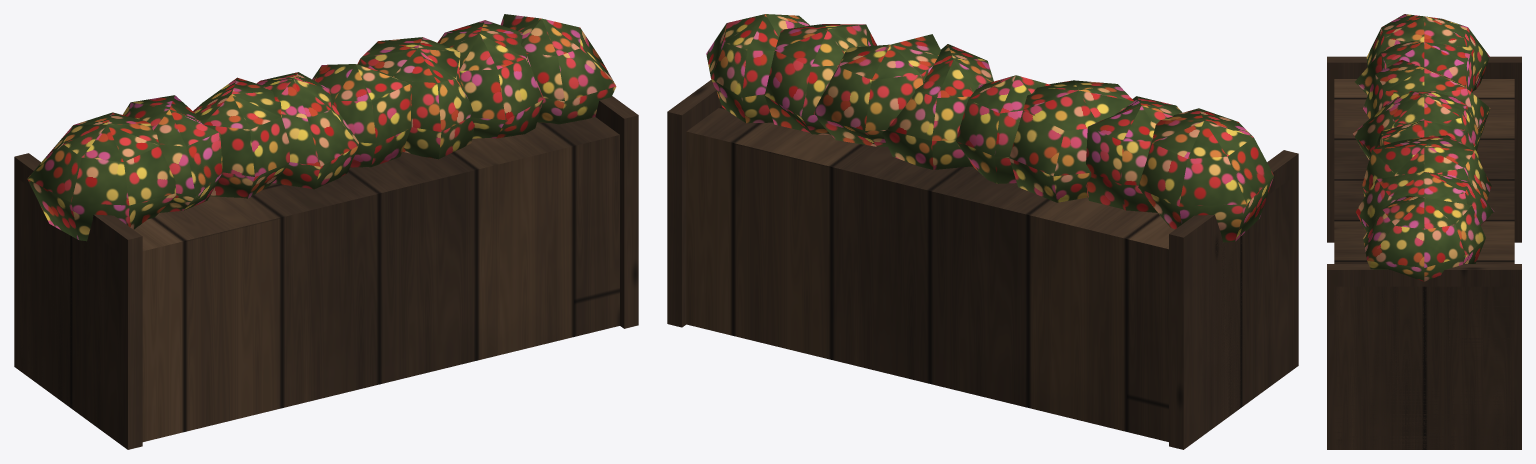
Rendered from planter.gltf.
The picture shows the model from 3 angles, left to right: view 1: azimuth 30°, elevation 25°; view 2: azimuth 150°, elevation 25°; view 3: azimuth 270°, elevation 25°; orthographic projection. The views are drawn at different scales.
Visible parts, largest first — view 1: planter_mesh; view 2: planter_mesh; view 3: planter_mesh.
Part boxes in pixels (left/top/right/bottom): planter_mesh: left=14, top=14, right=638, bottom=449; planter_mesh: left=667, top=14, right=1298, bottom=449; planter_mesh: left=1327, top=14, right=1521, bottom=449.
Size of what is drawn, in the model's own units: 1.52 by 0.72 by 0.54.
Materials: 3 (3 with a texture image).
